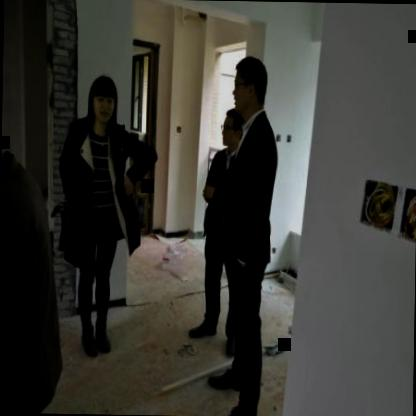head: (229, 55, 271, 121), (214, 96, 250, 155), (86, 70, 121, 127)
